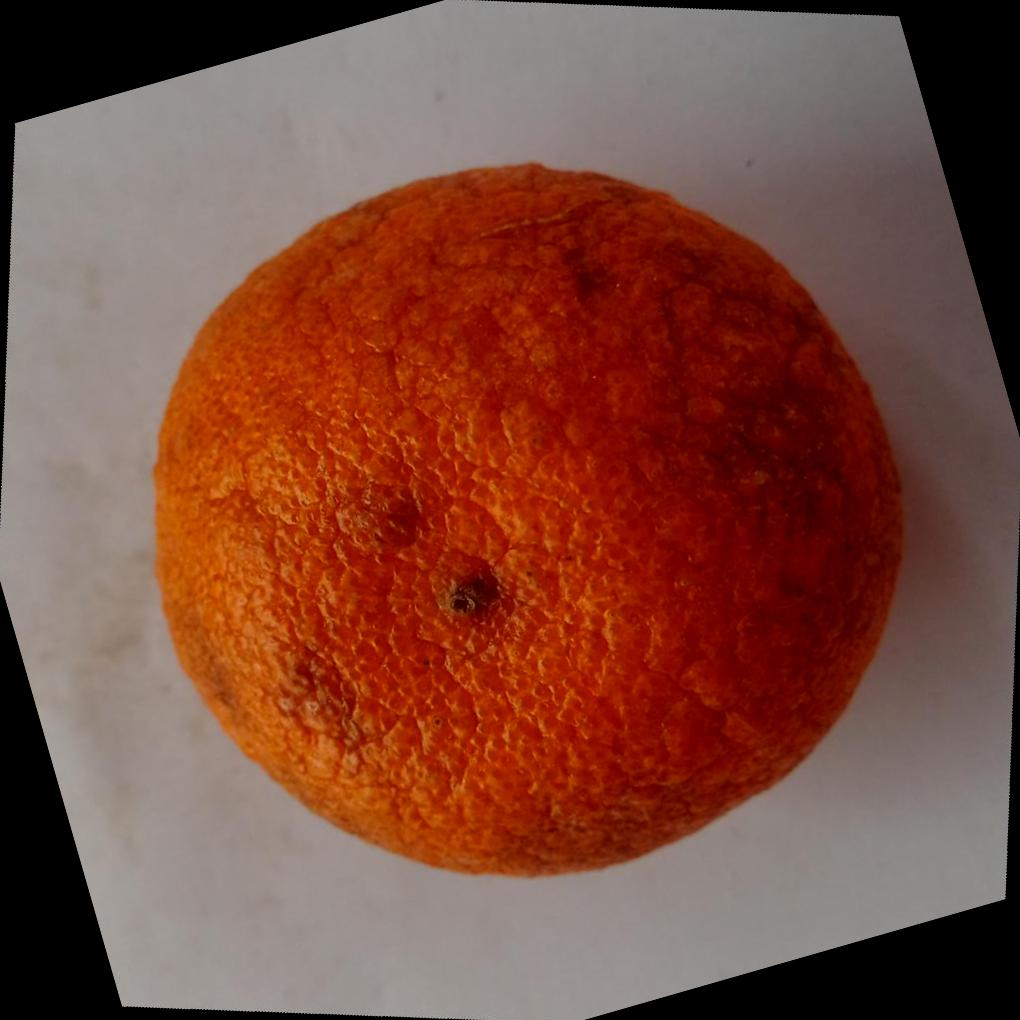FreshOrange: (152, 157, 911, 880)
